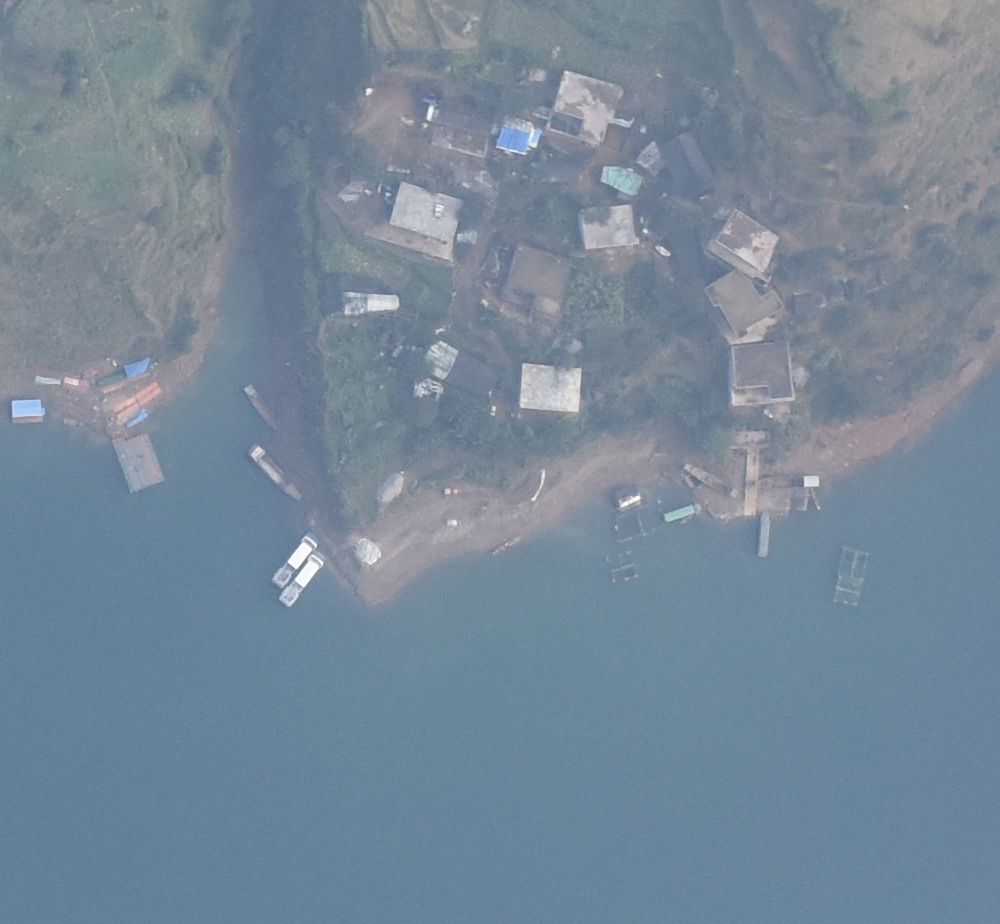building: (547, 68, 625, 146), (704, 268, 788, 337), (502, 244, 574, 320), (389, 181, 465, 242), (727, 340, 797, 405), (714, 208, 781, 274), (656, 130, 719, 200), (518, 362, 582, 415), (443, 346, 505, 399), (579, 204, 641, 249), (428, 97, 501, 133), (321, 271, 363, 318)
cultivation-mesh-cage: (834, 546, 868, 607), (613, 512, 658, 541), (607, 552, 640, 582)
prefabricated-house: (111, 435, 164, 494), (495, 112, 537, 153), (10, 399, 46, 418)
ship: (246, 443, 302, 502), (270, 530, 320, 588), (279, 549, 326, 607), (683, 465, 741, 498), (244, 385, 278, 429), (755, 475, 820, 490), (663, 503, 703, 523), (759, 512, 772, 558), (492, 536, 520, 554)
